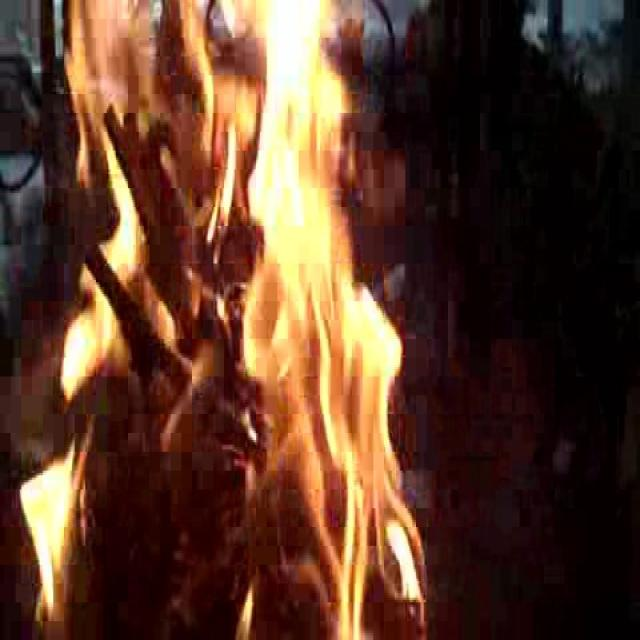Fire: (22, 0, 424, 640)
